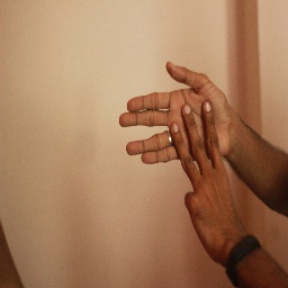M: (117, 57, 240, 204)
